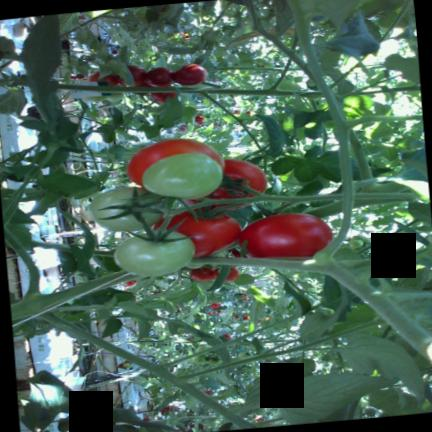6kp_petiole: (10, 281, 103, 345), (250, 69, 293, 96), (185, 88, 229, 110)
MainStem: (10, 270, 142, 321), (58, 84, 324, 98)
tomato: (127, 139, 224, 185), (239, 213, 332, 258), (143, 153, 222, 199), (113, 232, 194, 276), (167, 212, 241, 257), (90, 187, 162, 231), (209, 159, 266, 209), (144, 64, 207, 87), (190, 267, 240, 282), (173, 64, 206, 85), (127, 65, 146, 86), (87, 72, 113, 86), (151, 92, 176, 102), (225, 267, 240, 282)
